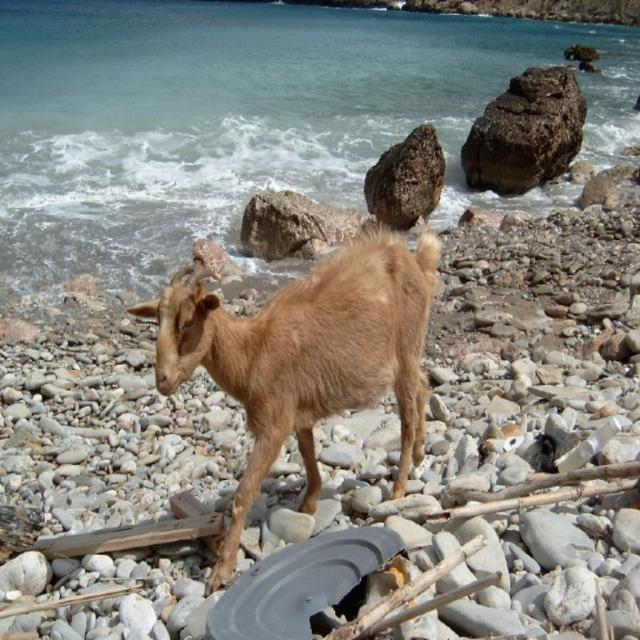Goat: (122, 223, 442, 598)
